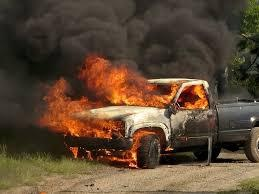fire: (35, 51, 211, 170)
